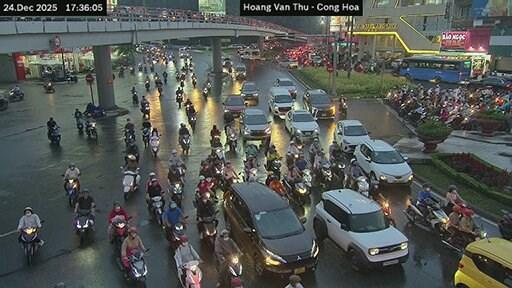motorbike: (403, 198, 447, 233), (440, 225, 486, 252), (214, 255, 242, 282), (176, 261, 201, 287), (21, 226, 38, 264), (128, 252, 147, 286), (112, 216, 128, 256), (74, 211, 92, 244), (201, 210, 217, 247), (317, 163, 339, 189), (122, 167, 140, 198), (166, 221, 185, 250), (285, 180, 309, 202), (377, 198, 394, 225), (64, 179, 79, 206), (168, 181, 182, 207), (150, 197, 162, 225), (499, 211, 511, 238), (265, 157, 281, 176), (355, 175, 368, 196), (301, 169, 312, 192), (330, 158, 342, 178), (284, 152, 300, 166), (48, 126, 60, 144), (150, 135, 159, 157), (86, 121, 96, 138), (214, 145, 224, 162), (243, 167, 256, 180), (141, 127, 150, 145), (179, 135, 188, 153), (124, 129, 134, 145), (9, 89, 22, 100), (227, 134, 236, 149), (74, 116, 83, 131), (339, 98, 346, 117), (188, 112, 195, 130), (140, 103, 149, 117), (211, 135, 220, 147), (0, 94, 7, 109), (176, 91, 182, 108), (44, 81, 54, 91), (185, 103, 192, 116), (201, 87, 208, 99), (131, 90, 137, 103), (205, 81, 211, 91), (128, 66, 134, 75), (144, 80, 149, 90), (118, 67, 122, 76), (175, 72, 179, 81), (179, 80, 184, 86), (192, 77, 195, 86), (150, 64, 153, 72), (144, 66, 147, 72), (163, 76, 166, 82), (137, 67, 140, 71), (138, 63, 140, 67), (310, 161, 313, 162)
